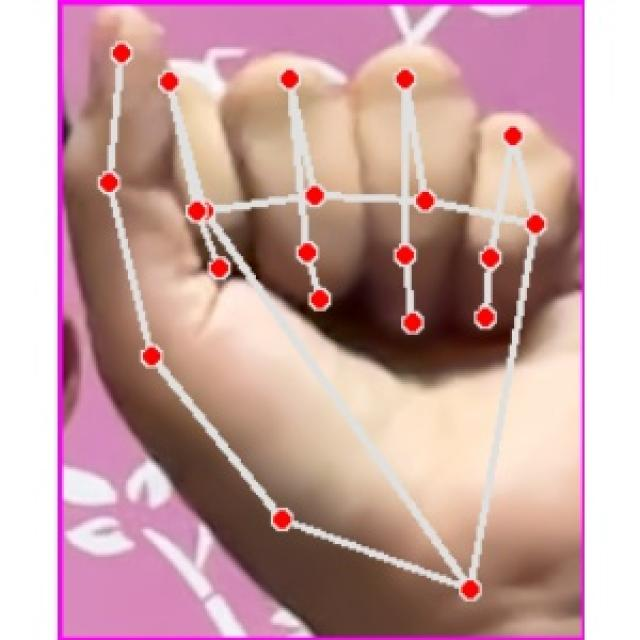A: (64, 3, 581, 634)
